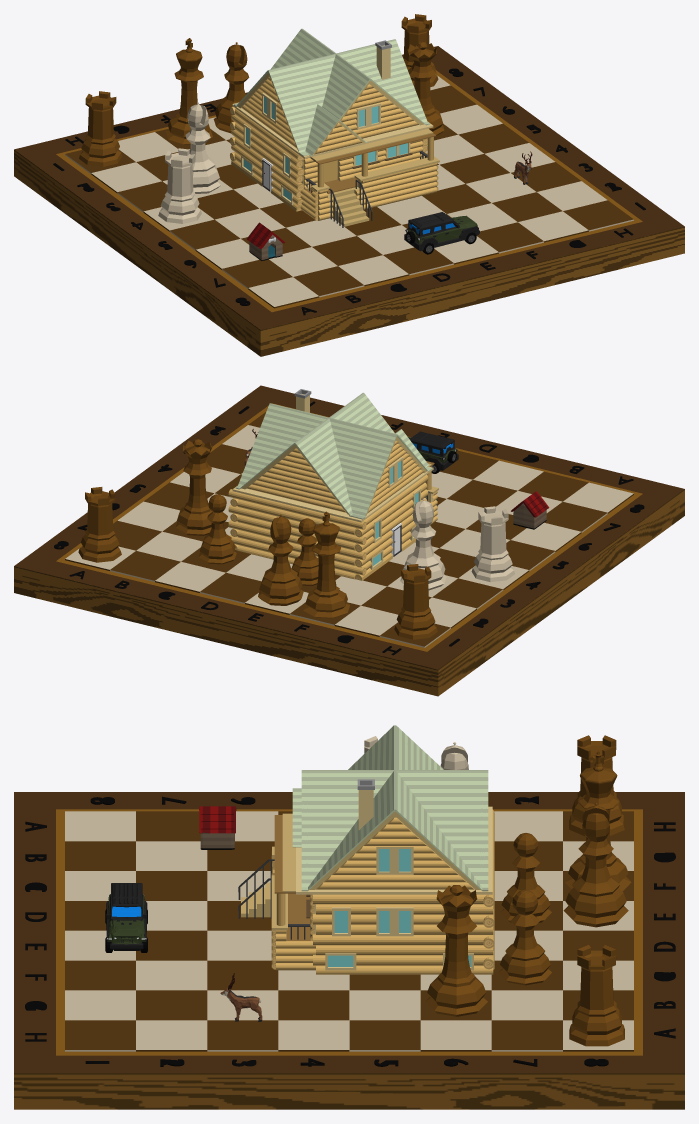
3 renders of one model, top to bottom at view 1: azimuth 30°, elevation 25°; view 2: azimuth 150°, elevation 25°; view 3: azimuth 270°, elevation 25°, orthographic. The views are drawn at different scales.
Parts seen in each view (by area): view 1: Cube.002, Cube.1516, VEHICLES_JEEP, OBJRANDOM_DOGHOUSE; view 2: Cube.002, Cube.1516, VEHICLES_JEEP, OBJRANDOM_DOGHOUSE; view 3: Cube.002, Cube.1516, VEHICLES_JEEP, OBJRANDOM_DOGHOUSE, ANIMAL_VENADO.
Boxes of the visible parts, box(x1,y1,x2,y2) form: Cube.002: box(14, 14, 684, 356); Cube.1516: box(230, 28, 439, 227); VEHICLES_JEEP: box(404, 212, 479, 254); OBJRANDOM_DOGHOUSE: box(247, 222, 285, 260); Cube.002: box(14, 385, 684, 696); Cube.1516: box(228, 389, 438, 580); VEHICLES_JEEP: box(408, 431, 458, 473); OBJRANDOM_DOGHOUSE: box(511, 491, 549, 529); Cube.002: box(14, 735, 684, 1109); Cube.1516: box(238, 725, 494, 974); VEHICLES_JEEP: box(105, 883, 147, 952); OBJRANDOM_DOGHOUSE: box(199, 806, 236, 849); ANIMAL_VENADO: box(220, 973, 262, 1021).
Size of the model in its own units: 3981 by 1488 by 4012.
41 materials, 3 textured.
